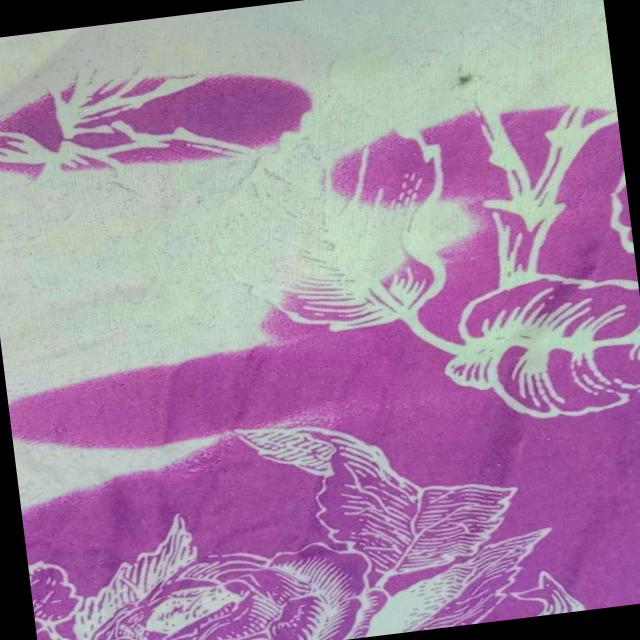baekra: (0, 135, 499, 394), (0, 0, 617, 194), (12, 400, 294, 512)
